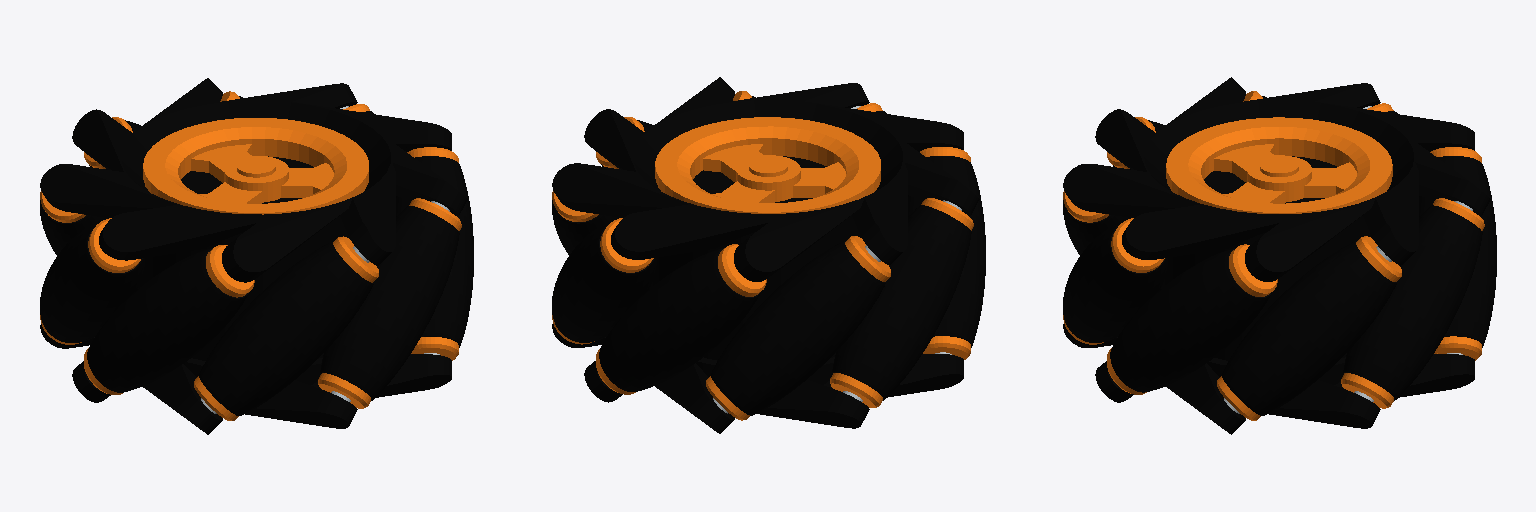
Rendered from meka_L.obj.
3 views of the same model, side by side, from view 1: azimuth 30°, elevation 25°; view 2: azimuth 150°, elevation 25°; view 3: azimuth 270°, elevation 25° (orthographic).
Parts seen in each view (by area): view 1: meca_L; view 2: meca_L; view 3: meca_L.
Boxes of the visible parts, <box> form: meca_L: <box>40,78,473,434</box>; meca_L: <box>552,77,985,433</box>; meca_L: <box>1063,77,1496,434</box>.
Bounding box in the file's own units: 0.0999 × 0.05 × 0.0997.